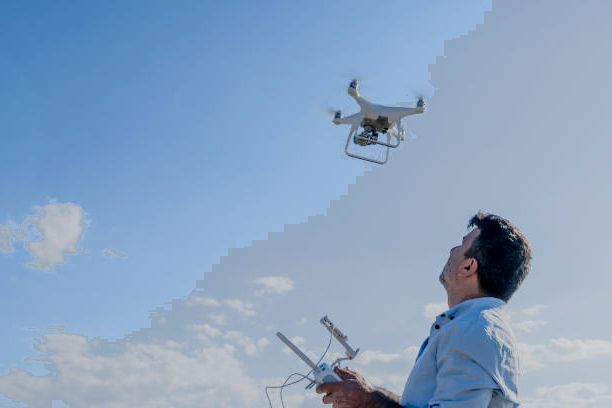Drone: (316, 74, 432, 172)
